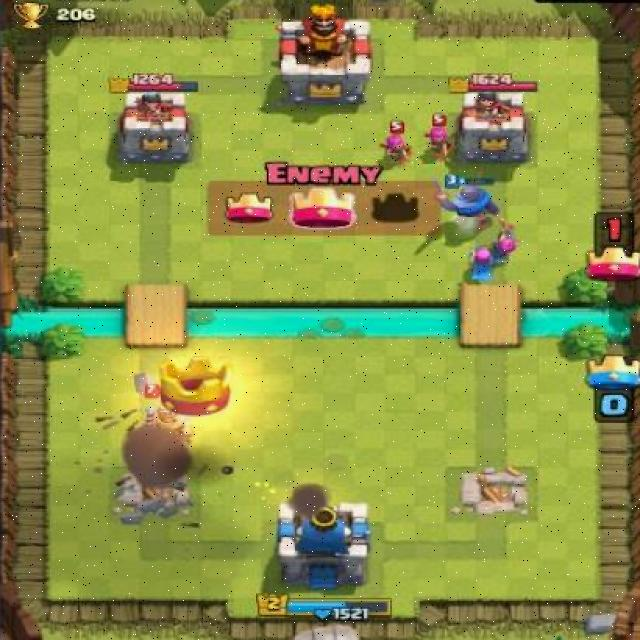Enemy-Archer: (378, 120, 417, 162), (423, 111, 456, 157)
Enemy-Prince: (143, 384, 194, 454)
Player-Archer: (491, 216, 519, 265), (465, 243, 498, 280)
Player-Knight: (435, 174, 503, 219)
